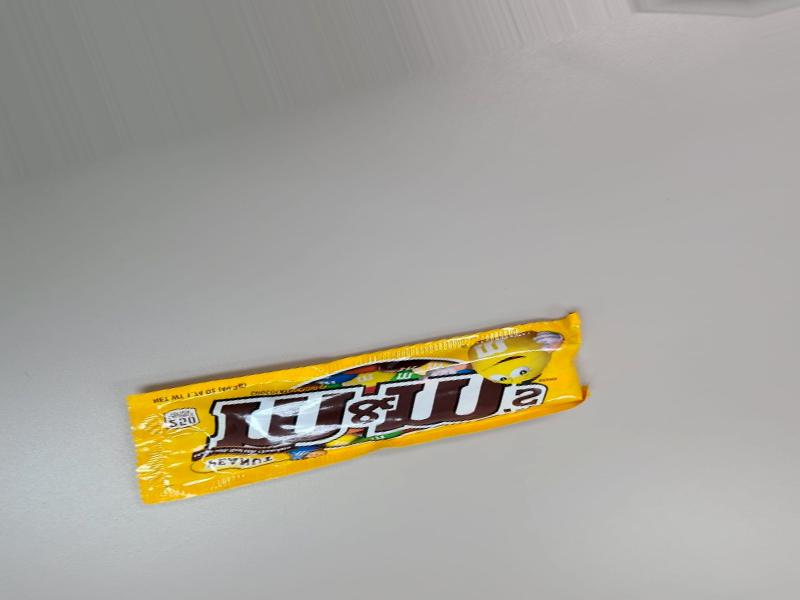m&m: (134, 300, 599, 512)
